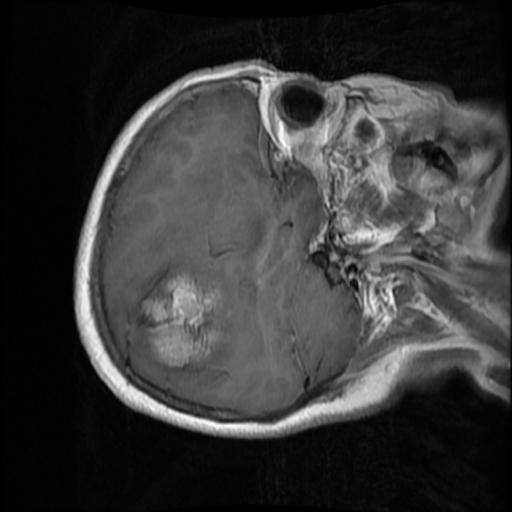meningioma: (139, 274, 218, 373)
